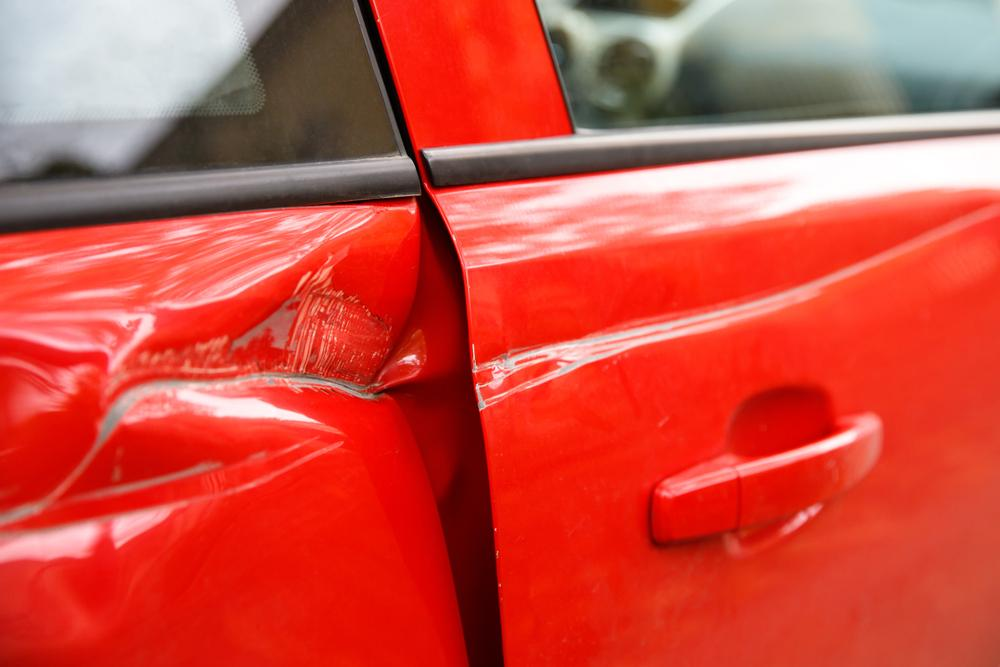dent: (0, 283, 382, 540)
scratch: (476, 202, 994, 412)
